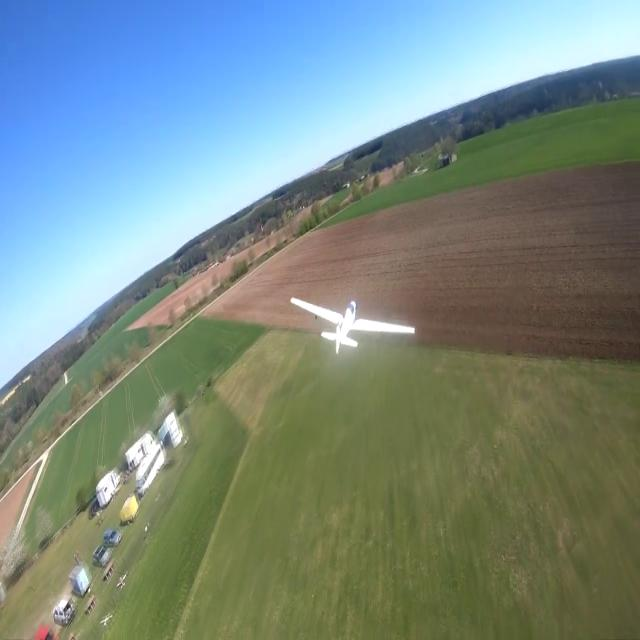iha: (288, 296, 417, 353)
